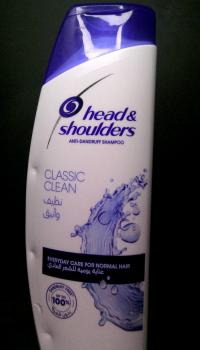dent_unacceptable: (40, 325, 58, 347), (27, 162, 45, 180), (26, 247, 43, 264), (33, 299, 46, 318)
